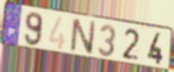2: (122, 28, 141, 63)
3: (97, 24, 117, 59)
4: (48, 16, 67, 52), (146, 32, 165, 66)
9: (22, 11, 44, 48)
N: (69, 18, 97, 57)
